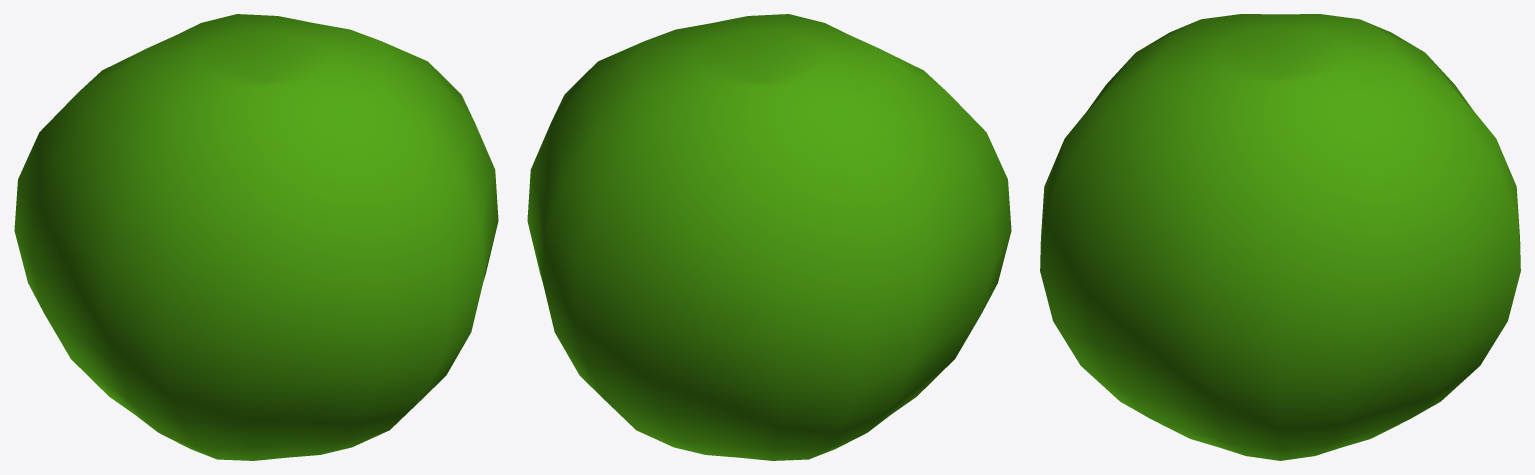
The model's file is apple_unripe.dae.
3 views of the same model, side by side, from view 1: azimuth 30°, elevation 25°; view 2: azimuth 150°, elevation 25°; view 3: azimuth 270°, elevation 25° (orthographic).
Parts seen in each view (by area): view 1: Tree; view 2: Tree; view 3: Tree.
Part boxes in pixels (<box>): Tree: <box>14,14,498,460</box>; Tree: <box>527,14,1011,460</box>; Tree: <box>1040,14,1520,460</box>.
Size of the model in its own units: 2.01 by 2.01 by 1.71.
